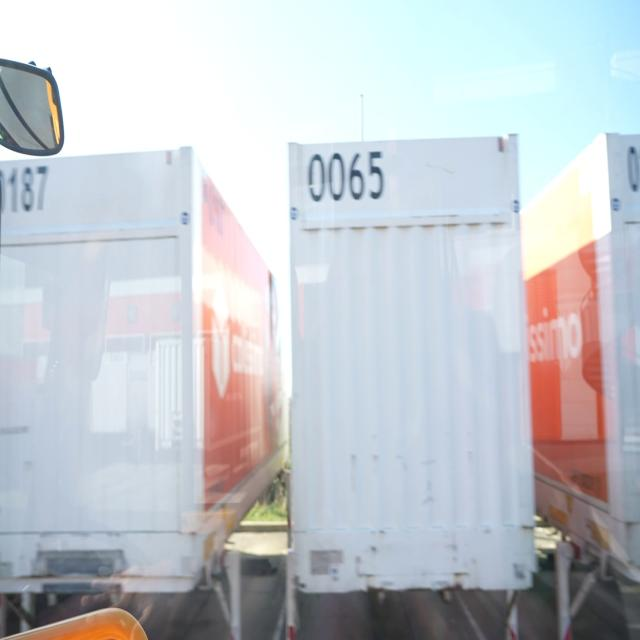Code: (303, 147, 387, 210)
